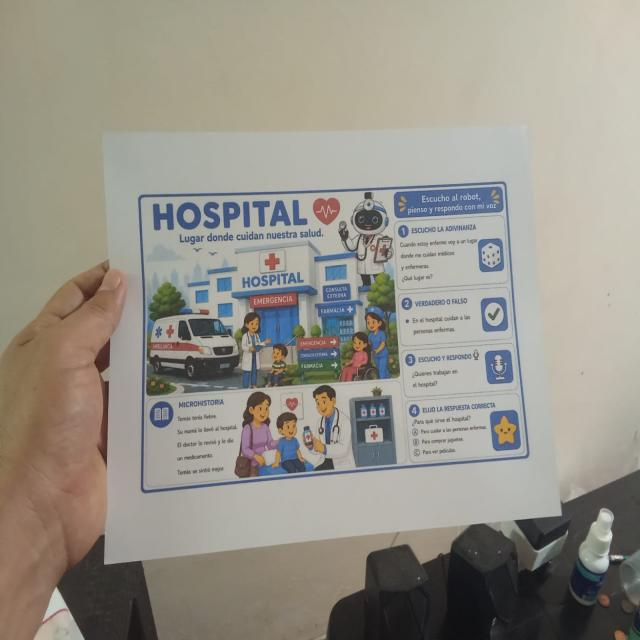hospital: (135, 176, 532, 497)
